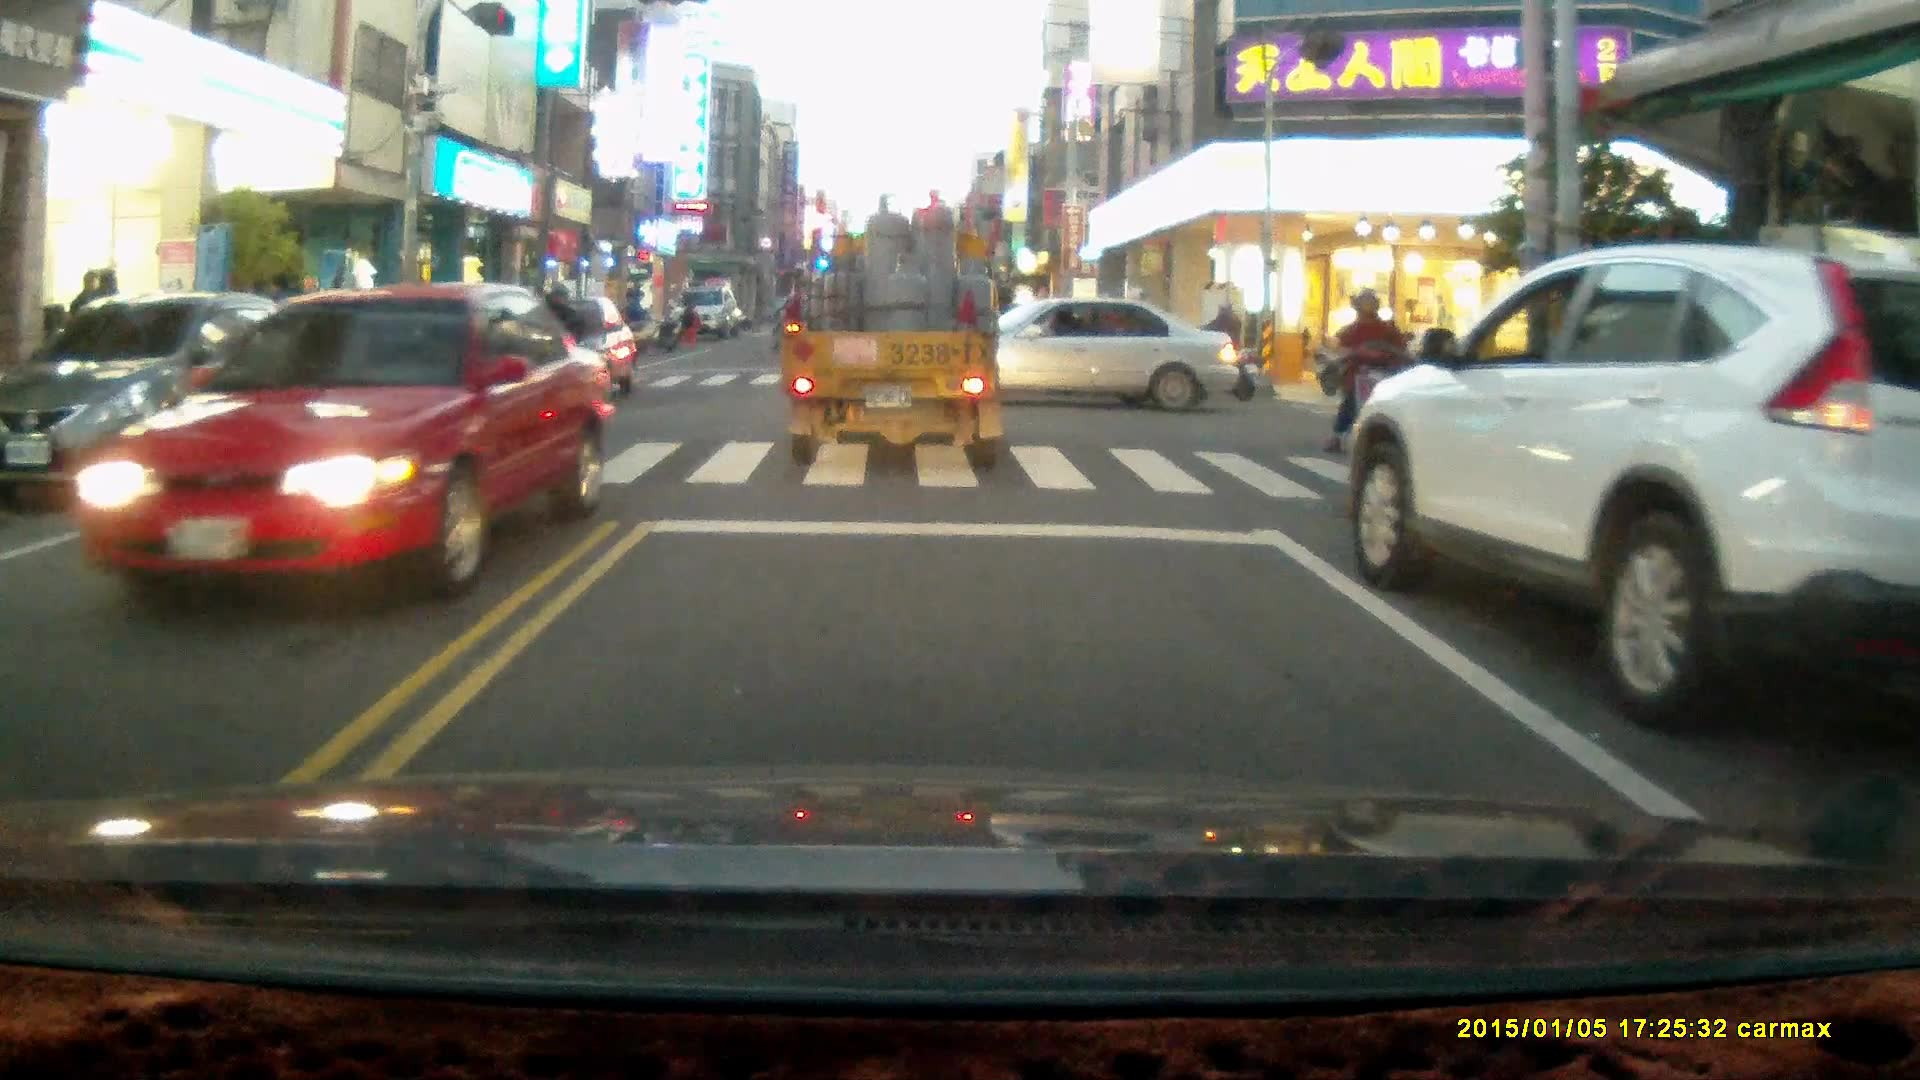rider: (1321, 281, 1418, 470), (1167, 293, 1260, 399)
vehicle: (1339, 239, 1920, 737), (72, 276, 614, 604), (782, 191, 1014, 465), (910, 295, 1241, 413), (671, 284, 739, 336)
